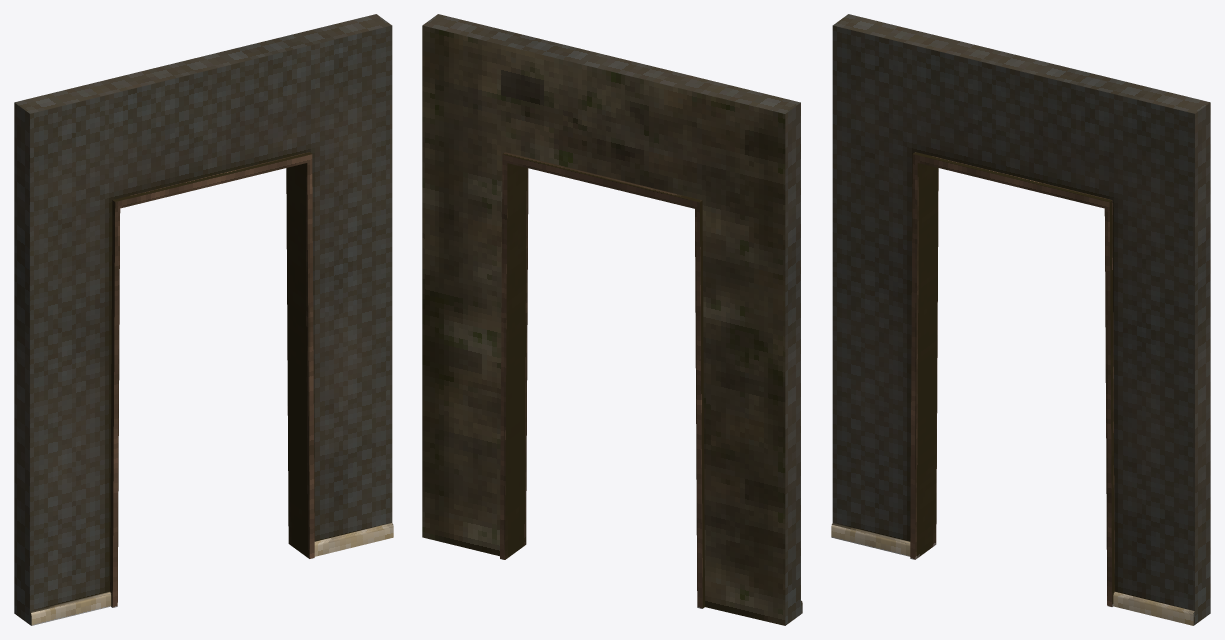
Rendered from Wall_Door_IntExt.glb.
3 views of the same model, side by side, from view 1: azimuth 30°, elevation 25°; view 2: azimuth 150°, elevation 25°; view 3: azimuth 330°, elevation 25° (orthographic).
Visible parts, largest first — view 1: Wall_Door_IntExt; view 2: Wall_Door_IntExt; view 3: Wall_Door_IntExt.
Part boxes in pixels (box(x1,y1,x2,y2)): Wall_Door_IntExt: box(14, 14, 393, 625); Wall_Door_IntExt: box(422, 14, 802, 625); Wall_Door_IntExt: box(831, 14, 1210, 625).
Bounding box in the file's own units: 2 × 2.7 × 0.2017.
1 material, 1 textured.
